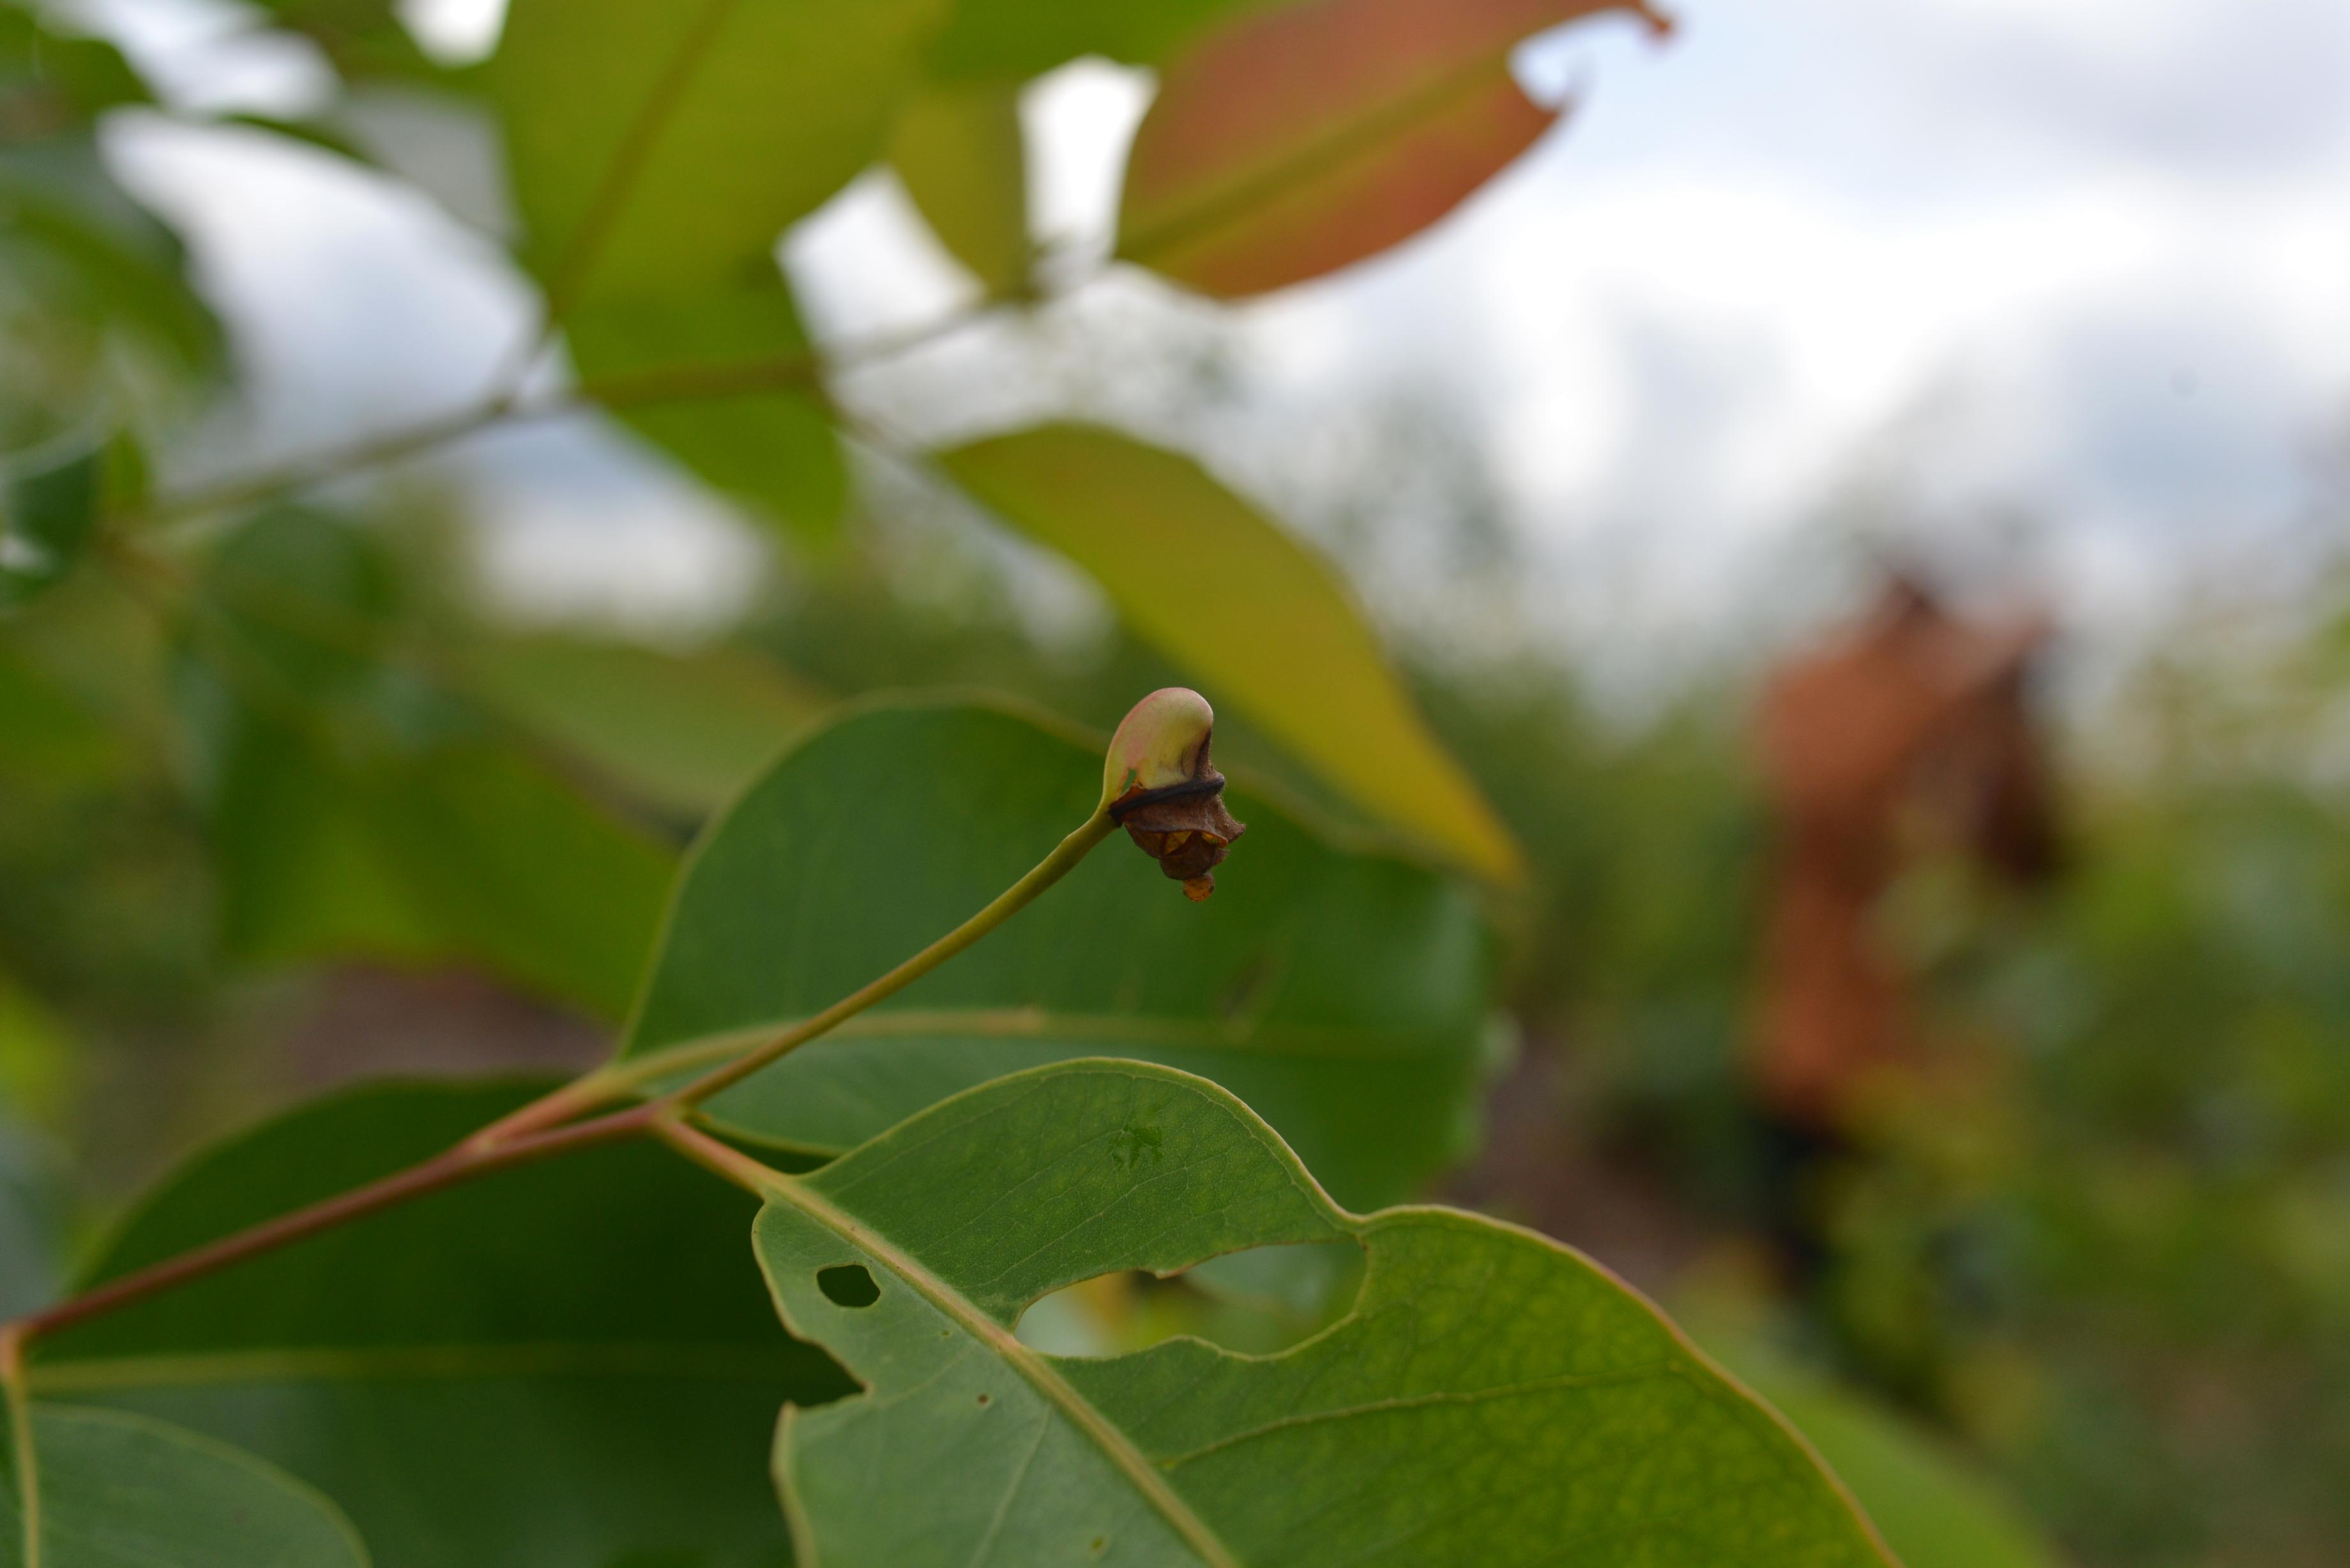Helopeltis-Withered Sprout: (1080, 636, 1249, 912)
